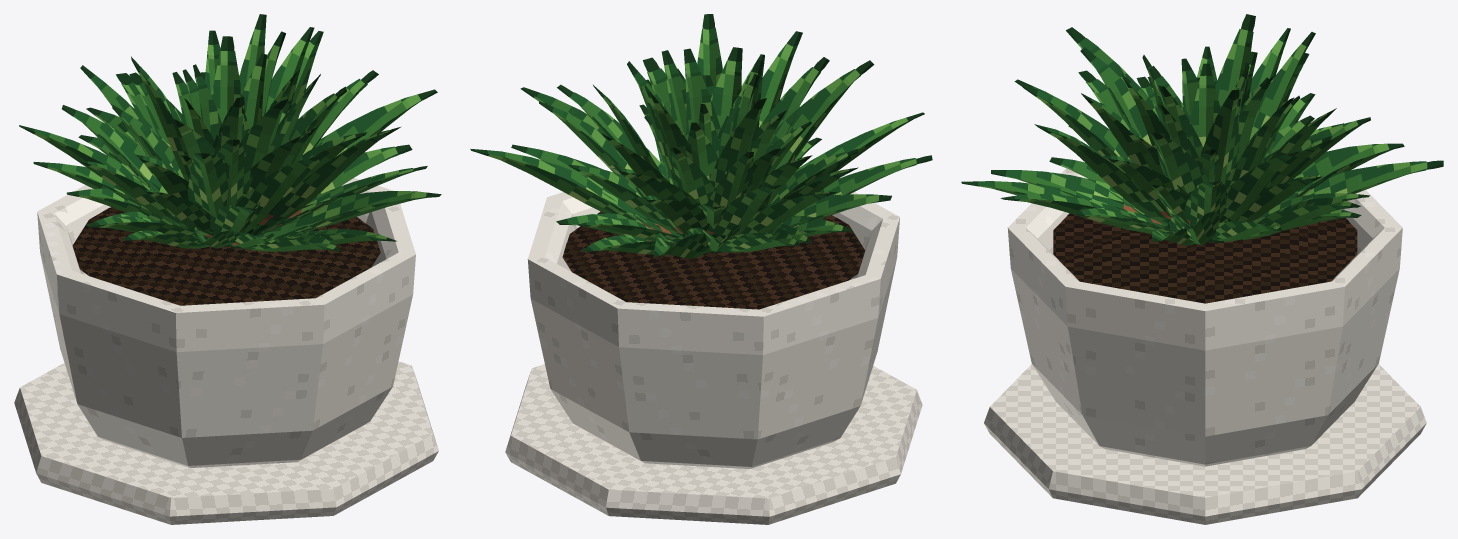
The model's file is Haworthia.gltf.
3 renders of one model, left to right at view 1: azimuth 30°, elevation 25°; view 2: azimuth 150°, elevation 25°; view 3: azimuth 270°, elevation 25°, orthographic. The views are drawn at different scales.
Parts seen in each view (by area): view 1: Pot.002, Saucer.002, Soil.002, Leaf_017.002, Leaf_033, Leaf_030.001, Leaf_026.002, Leaf_032.001, Leaf_000.002, Leaf_049, Leaf_051, Leaf_027.001 (+34 smaller); view 2: Pot.002, Saucer.002, Soil.002, Leaf_002.002, Leaf_030.001, Leaf_022.002, Leaf_051, Leaf_021.002, Leaf_026.002, Leaf_060, Leaf_032.001, Leaf_054 (+35 smaller); view 3: Pot.002, Saucer.002, Soil.002, Leaf_033, Leaf_005.002, Leaf_048, Leaf_032.001, Leaf_006.002, Leaf_047, Leaf_051, Leaf_021.002, Leaf_015.002 (+30 smaller).
Part boxes in pixels (box(x1,y1,x2,y2)): Pot.002: box(37, 178, 415, 467); Saucer.002: box(14, 361, 438, 524); Soil.002: box(72, 207, 380, 305); Leaf_017.002: box(251, 191, 441, 237); Leaf_033: box(252, 126, 401, 235); Leaf_030.001: box(186, 153, 247, 218); Leaf_026.002: box(62, 105, 167, 193); Leaf_032.001: box(235, 155, 323, 233); Leaf_000.002: box(315, 89, 437, 157); Leaf_049: box(211, 36, 242, 123); Leaf_051: box(131, 56, 190, 181); Leaf_027.001: box(19, 125, 160, 205); Pot.002: box(527, 161, 899, 468); Saucer.002: box(505, 364, 922, 524); Soil.002: box(562, 211, 865, 309); Leaf_002.002: box(470, 148, 657, 230); Leaf_030.001: box(768, 60, 874, 169); Leaf_022.002: box(568, 164, 684, 238); Leaf_051: box(709, 98, 766, 188); Leaf_021.002: box(539, 101, 662, 212); Leaf_026.002: box(703, 185, 781, 251); Leaf_060: box(683, 48, 720, 140); Leaf_032.001: box(759, 31, 802, 127); Leaf_054: box(711, 47, 742, 127); Pot.002: box(1007, 168, 1402, 466); Saucer.002: box(984, 364, 1426, 524); Soil.002: box(1053, 213, 1357, 303); Leaf_033: box(1034, 124, 1171, 225); Leaf_005.002: box(1285, 160, 1443, 199); Leaf_048: box(1200, 90, 1239, 184); Leaf_032.001: box(1022, 84, 1133, 180); Leaf_006.002: box(1294, 143, 1404, 197); Leaf_047: box(1147, 131, 1209, 195); Leaf_051: box(1215, 14, 1255, 108); Leaf_021.002: box(1221, 151, 1299, 221); Leaf_015.002: box(991, 170, 1129, 206).
Bounding box in the file's own units: 1.53 × 1.41 × 1.61.
Materials: 4 (4 with a texture image).
